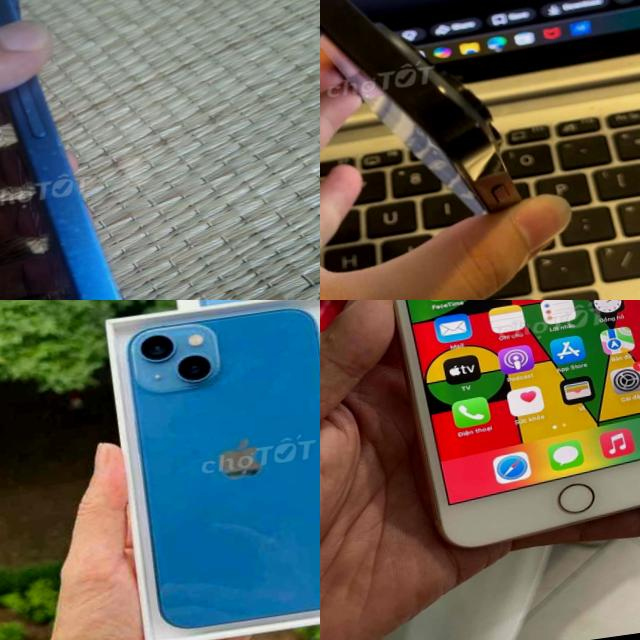gen_12_13: (122, 300, 320, 640), (0, 0, 203, 300)
gen_14: (320, 0, 556, 265)
gen_7_8: (393, 300, 640, 548)
scratch: (17, 138, 156, 300)
